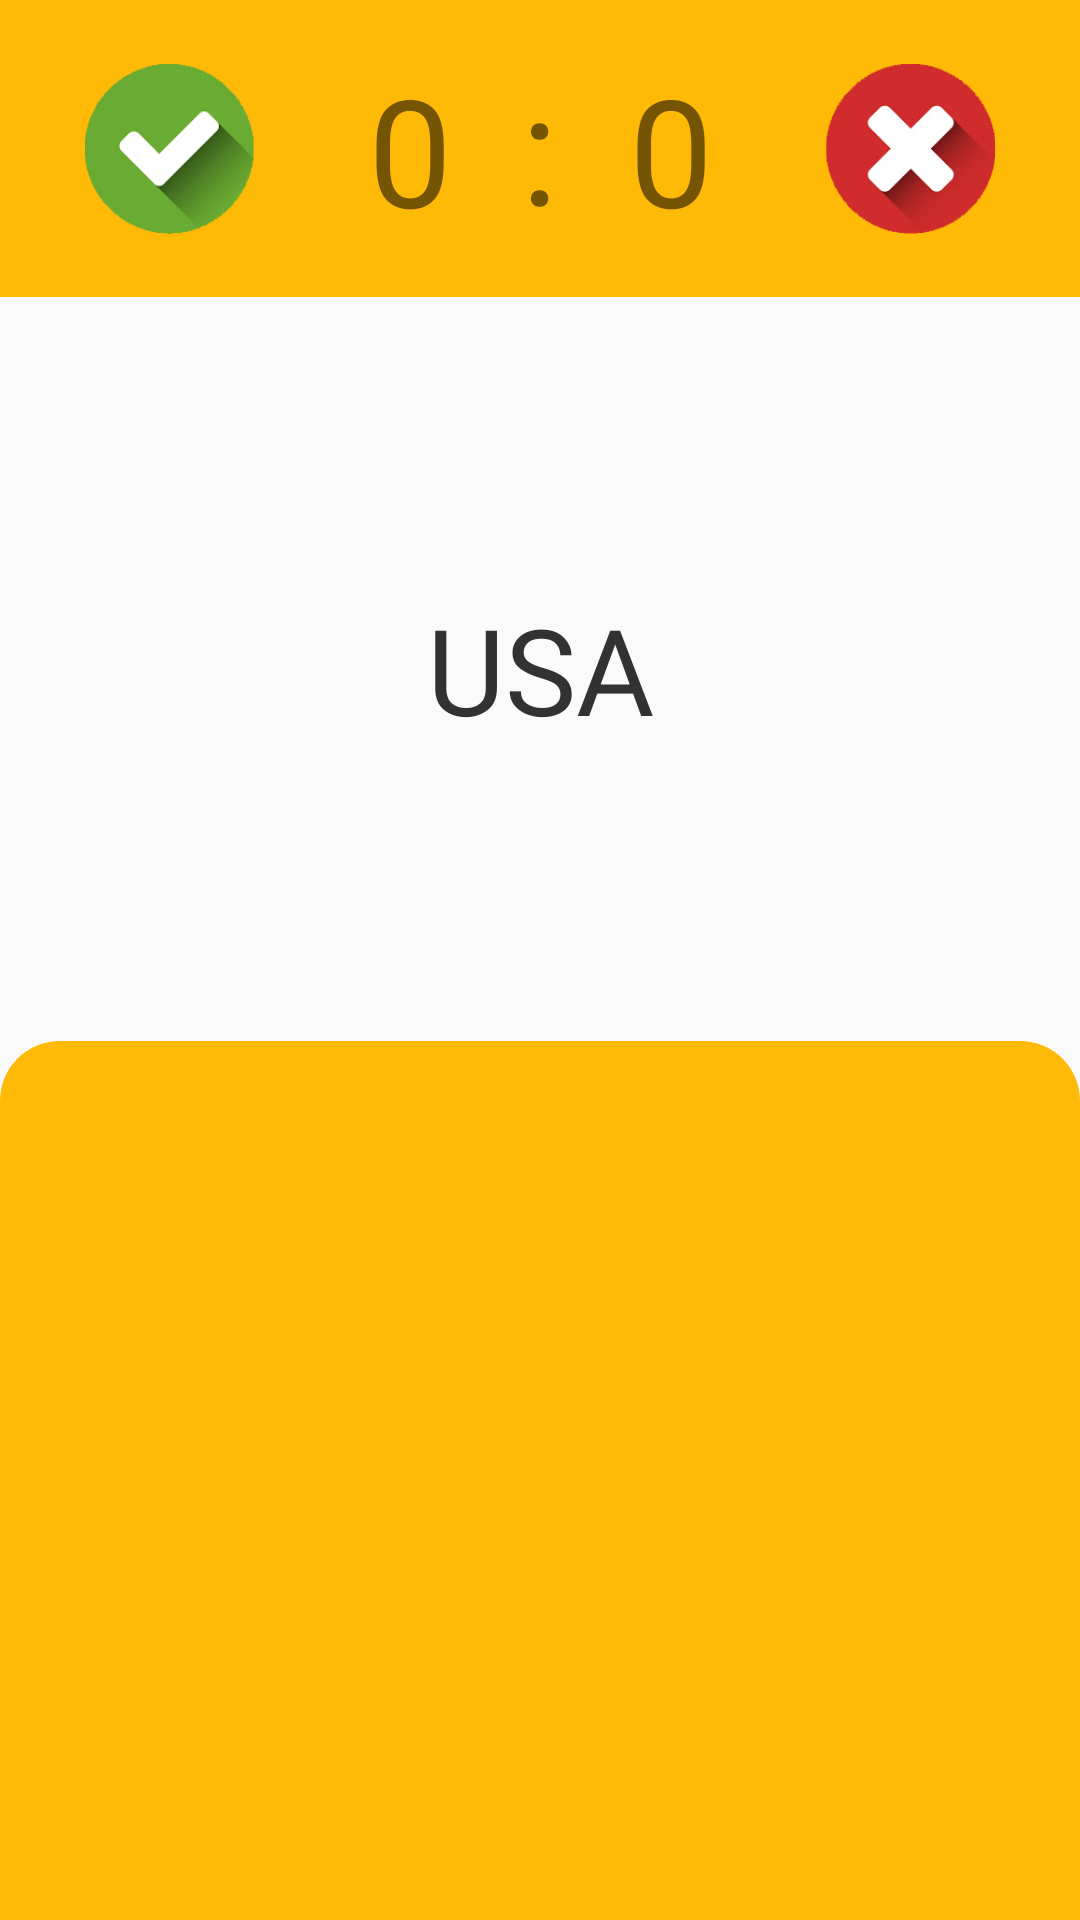

Locate icon controls on the screen. Image size 1080 x 1920, boxes as (left=x1, top=y1, right=x2, bottom=y2).
Number of right answers: (left=85, top=64, right=254, bottom=234)
Number of wrong answers: (left=826, top=64, right=995, bottom=234)
